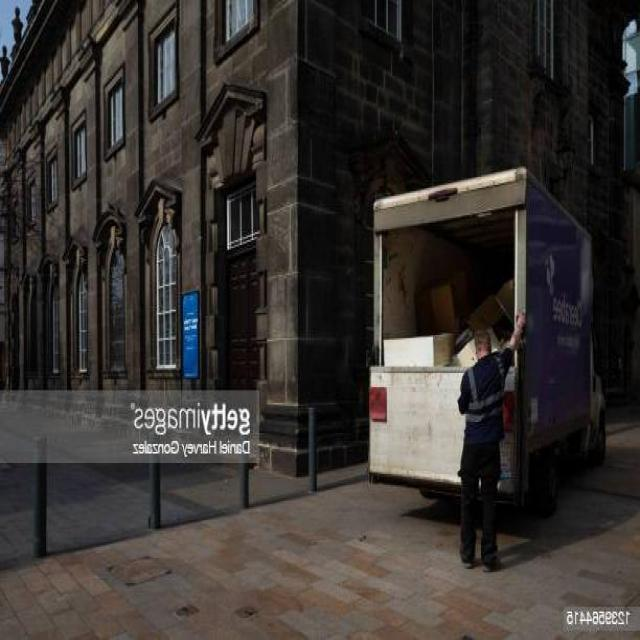Reflective-Jacket: (454, 363, 509, 452)
